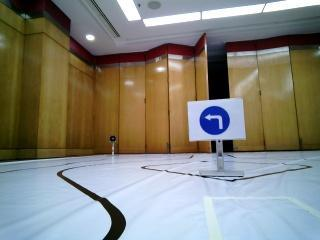left: (189, 103, 248, 140)
